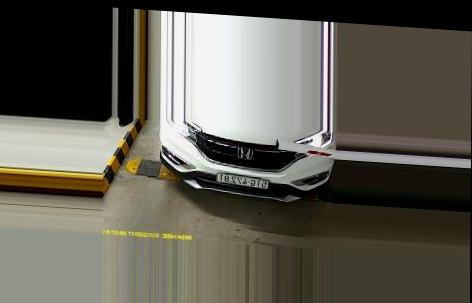License_Plate: (215, 172, 270, 192)
